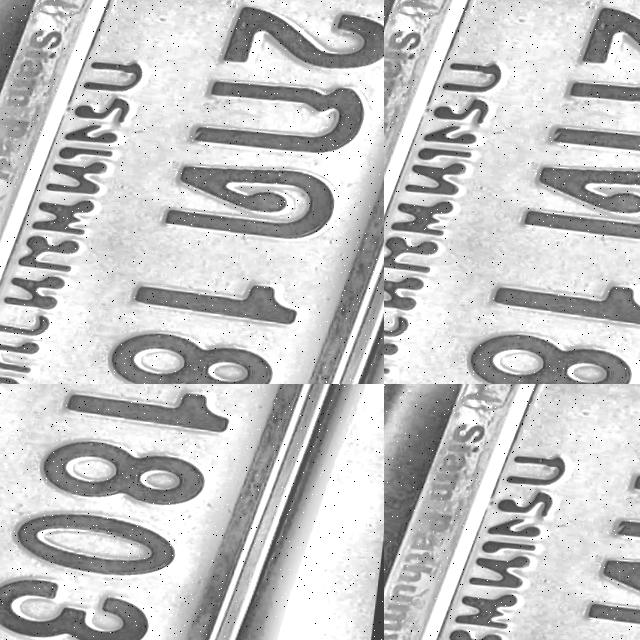license-plate: (384, 384, 640, 640)
